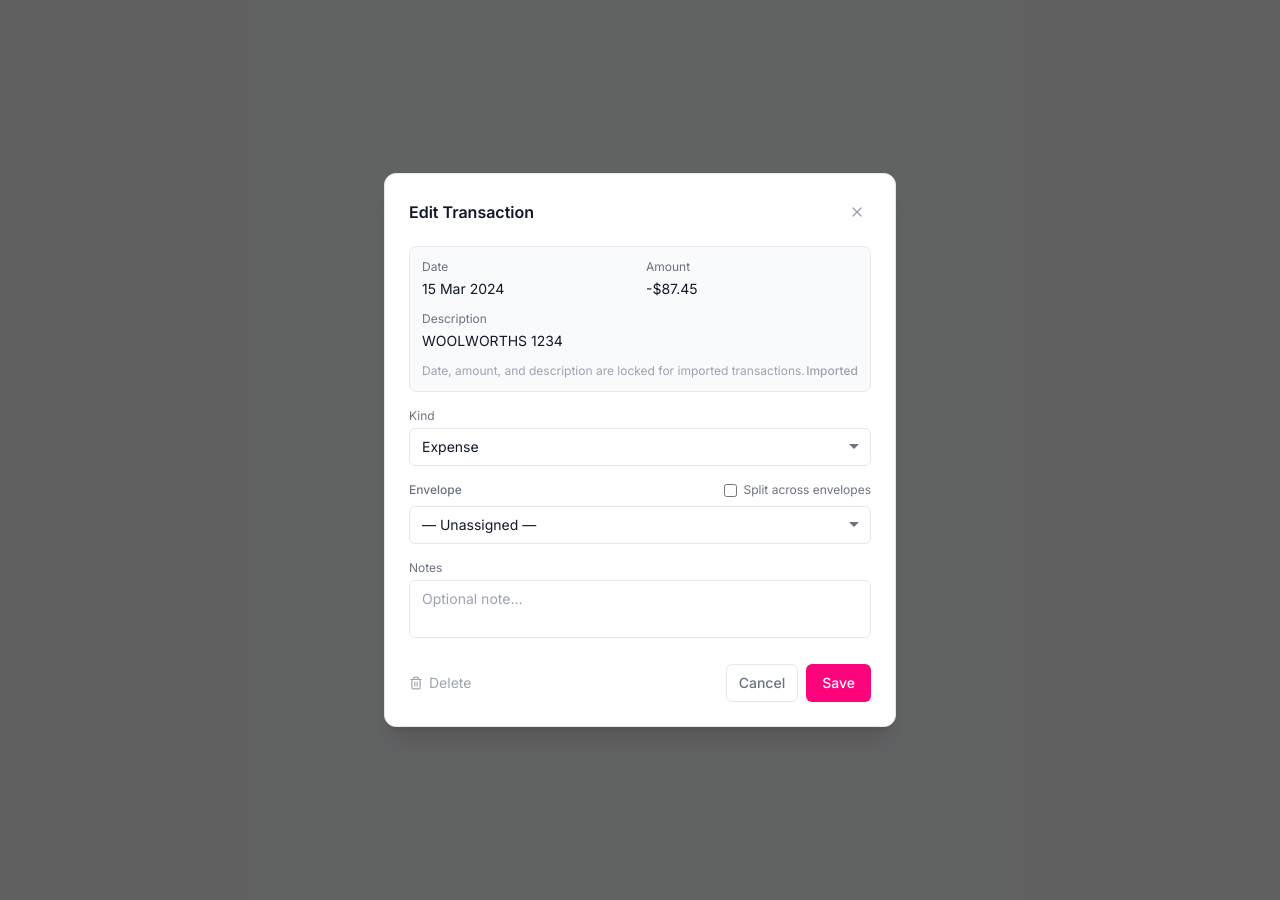
Flow 4 — Edit transaction: CSV-imported row › requires confirmation before deleting
Click the button "Delete": (440, 683) 409,673 -> 471,693
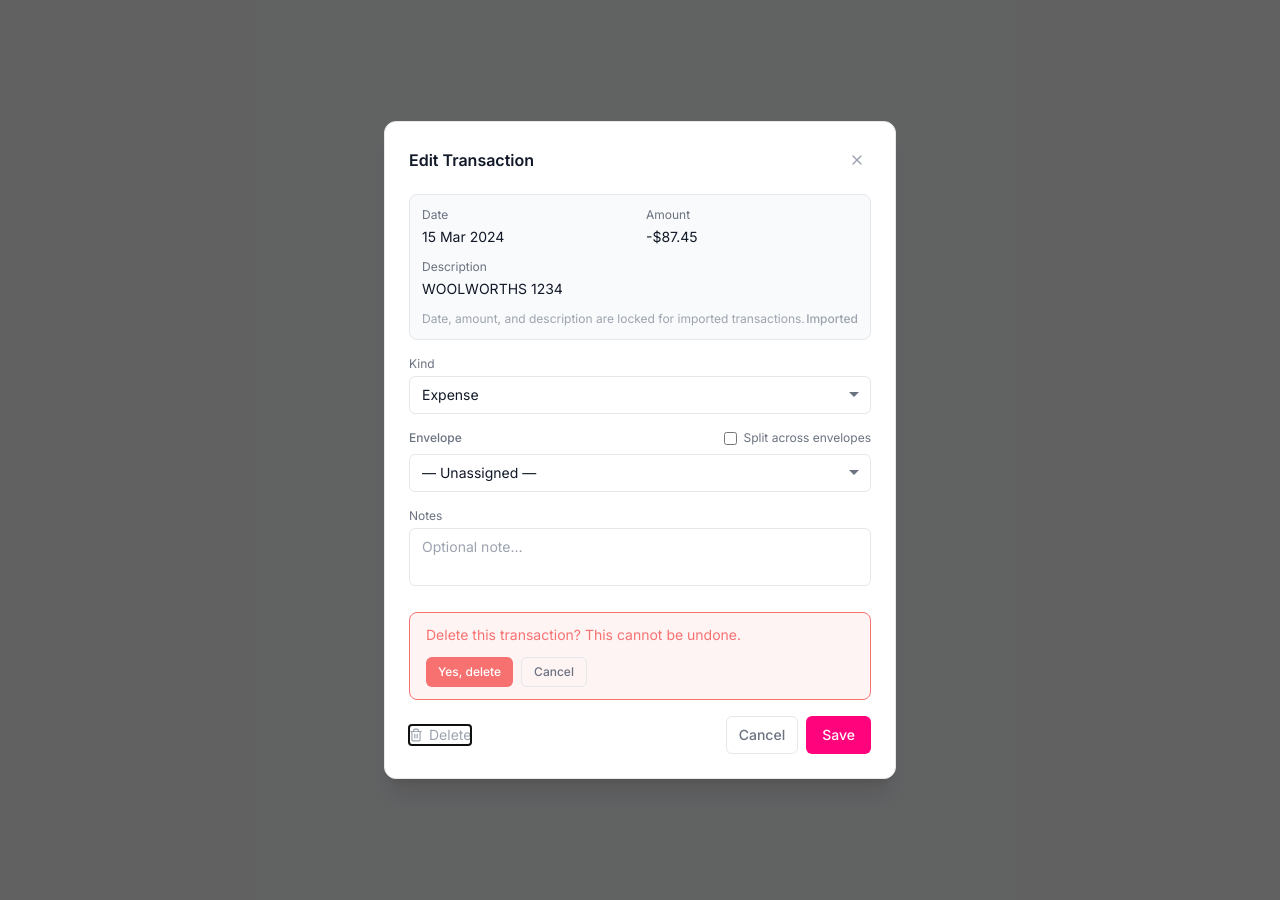
Check: the text "Delete this transaction? This cannot be undone." is shown, box 426,626 -> 741,643
Check: the button "Yes, delete" is shown, box 426,657 -> 513,687
